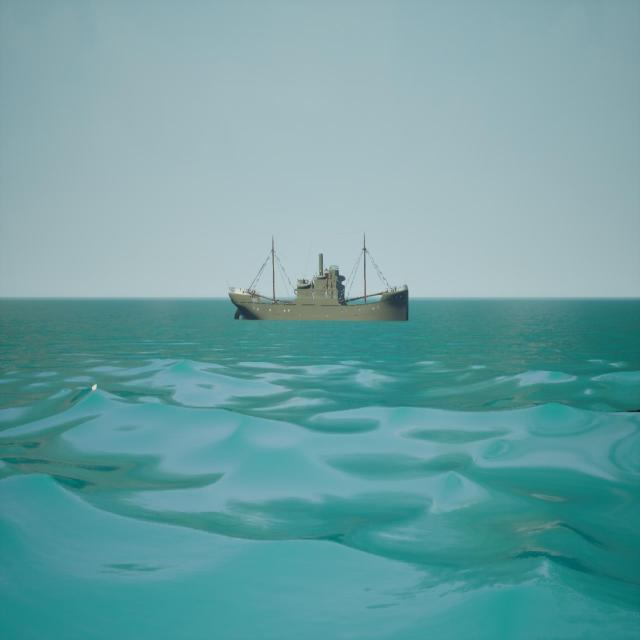fishing ship: (229, 233, 411, 324)
